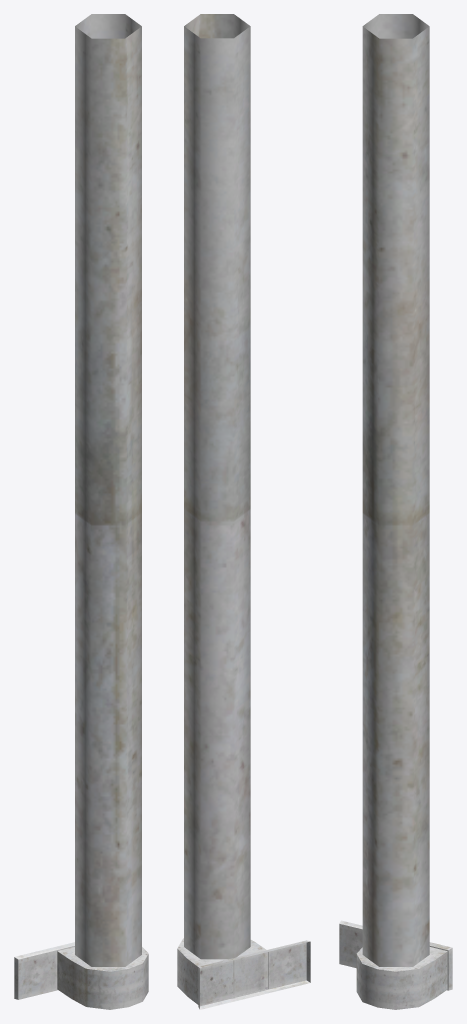
File: SM_Wires_Pipes_01nn.glb
3 renders of one model, left to right at view 1: azimuth 30°, elevation 25°; view 2: azimuth 210°, elevation 25°; view 3: azimuth 330°, elevation 25°, orthographic.
Parts seen in each view (by area): view 1: SM_Wires_Pipes_01nn; view 2: SM_Wires_Pipes_01nn; view 3: SM_Wires_Pipes_01nn.
Part boxes in pixels (x1,y1,x2,y2): SM_Wires_Pipes_01nn: (14, 14, 148, 1009); SM_Wires_Pipes_01nn: (177, 14, 310, 1009); SM_Wires_Pipes_01nn: (339, 14, 452, 1009).
Size of the model in its own units: 0.0605 by 0.5021 by 0.0367.
1 material, 1 textured.
